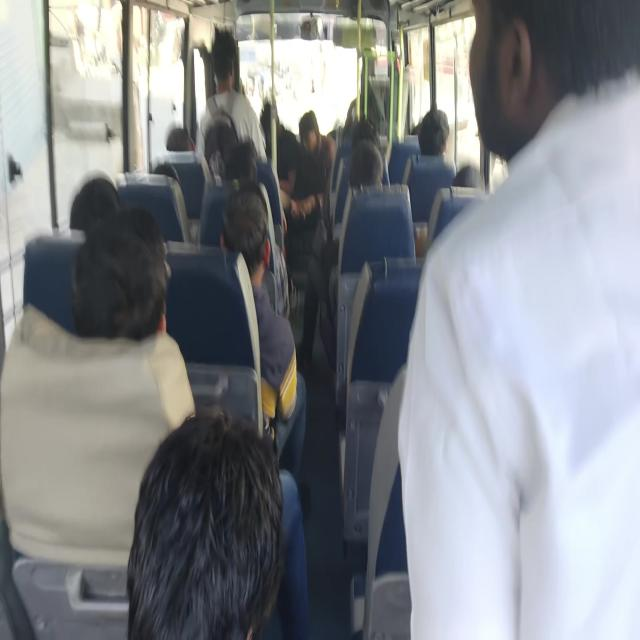person: (468, 3, 614, 242), (142, 435, 272, 631), (84, 218, 171, 322), (68, 178, 123, 240), (222, 183, 268, 257), (347, 144, 397, 195), (423, 108, 459, 168), (440, 160, 488, 202), (210, 33, 238, 93), (357, 110, 390, 156), (151, 162, 184, 198), (298, 113, 325, 153), (227, 147, 257, 182), (256, 95, 280, 138), (165, 124, 192, 156), (237, 136, 259, 162)
